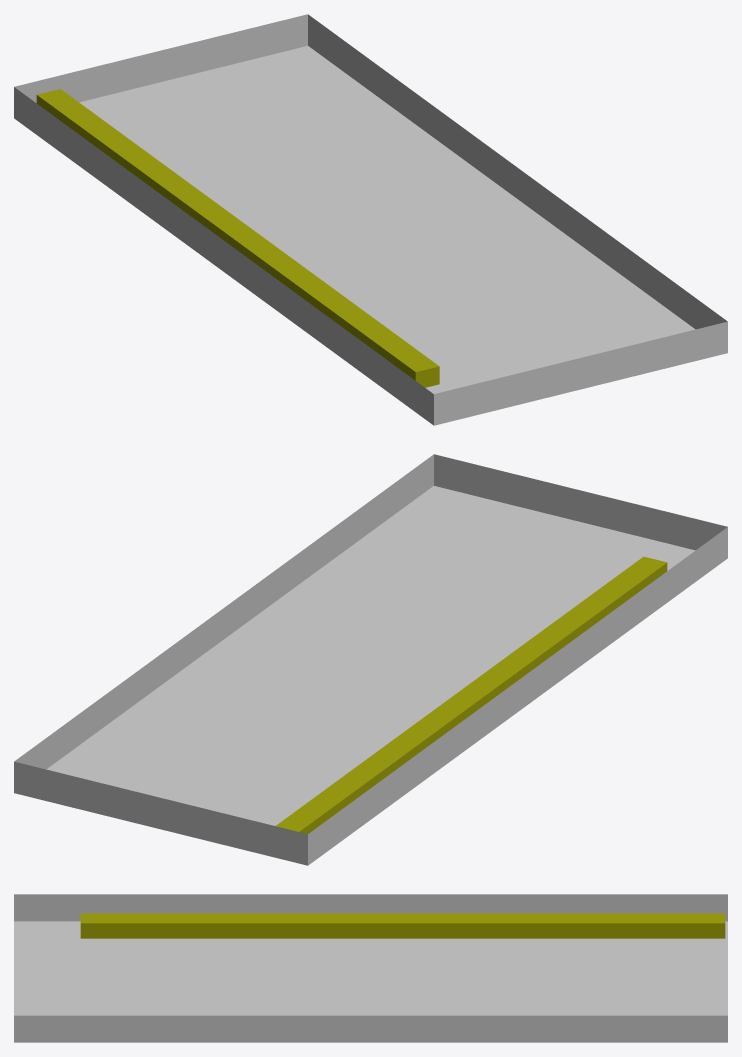
The model's file is table2.obj.
3 views of the same model, one above another, from view 1: azimuth 30°, elevation 25°; view 2: azimuth 150°, elevation 25°; view 3: azimuth 270°, elevation 25° (orthographic). The views are drawn at different scales.
Size of the model in its own units: 5.55 by 0.5865 by 13.73.
